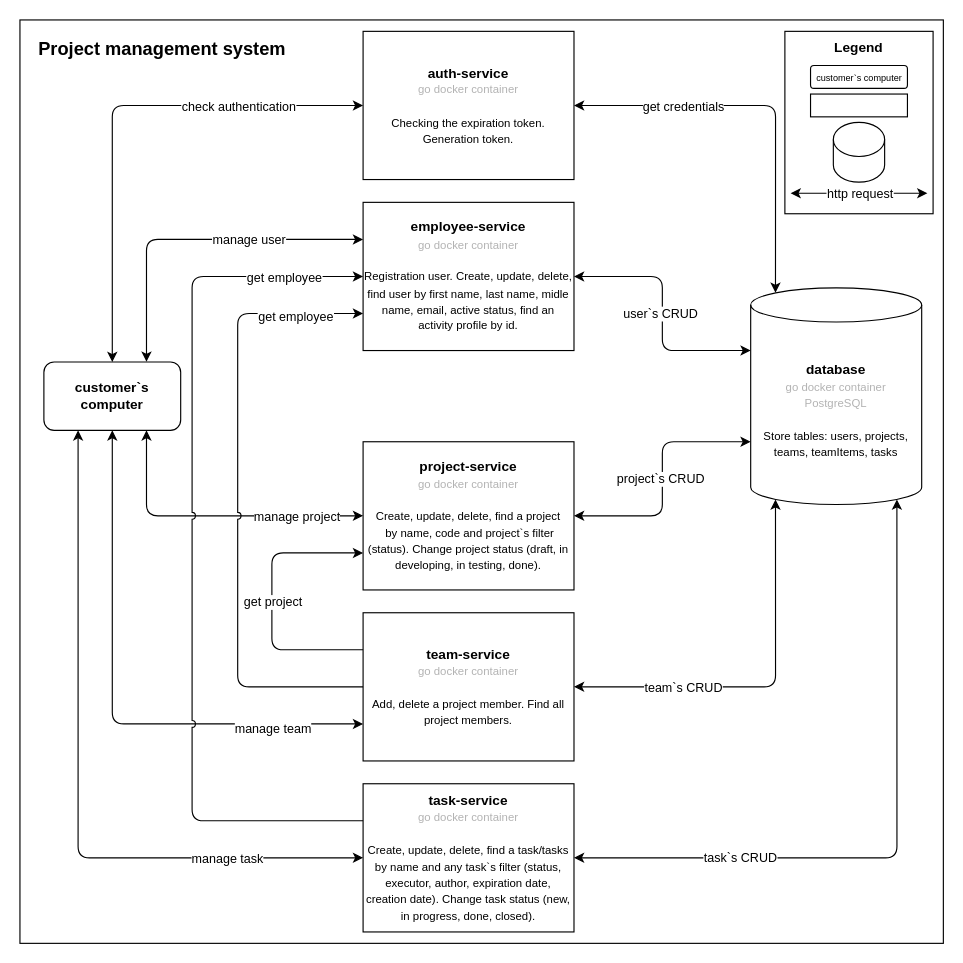
This 963x963 diagram has some shape labels left out. The box of each missing label's shape, as (x1, y1, x2, y2) in pixels:
database: (832, 121, 885, 182)
microservice: (809, 93, 907, 117)
